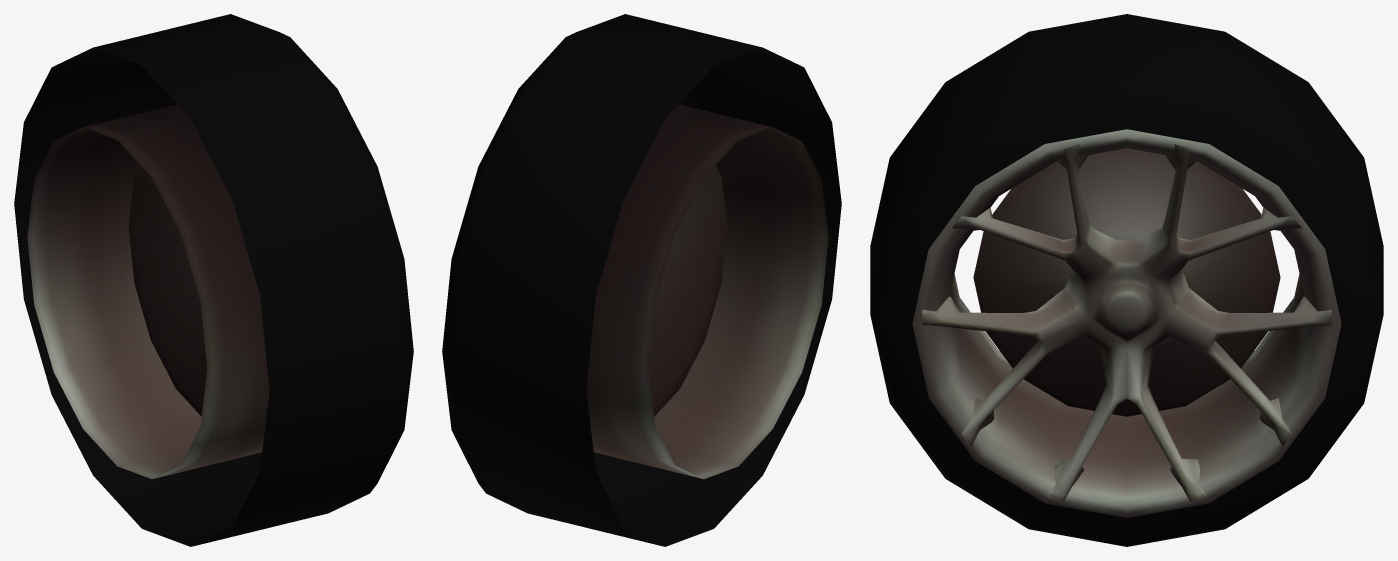
File: Porshe_wheel.fbx
3 views of the same model, side by side, from view 1: azimuth 30°, elevation 25°; view 2: azimuth 150°, elevation 25°; view 3: azimuth 270°, elevation 25° (orthographic).
Parts seen in each view (by area): view 1: Porche_992_wheel_F.L; view 2: Porche_992_wheel_F.L; view 3: Porche_992_wheel_F.L.
Boxes of the visible parts, <box> form: Porche_992_wheel_F.L: <box>14,14,413,546</box>; Porche_992_wheel_F.L: <box>442,14,841,546</box>; Porche_992_wheel_F.L: <box>870,14,1383,546</box>.
Size of the model in its own units: 37.8 by 90.57 by 90.57.
2 materials, 1 textured.
